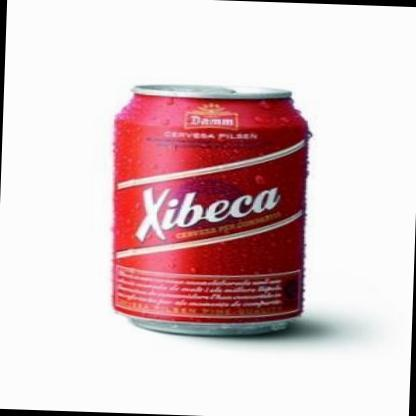alumunium_can: (102, 80, 314, 341)
